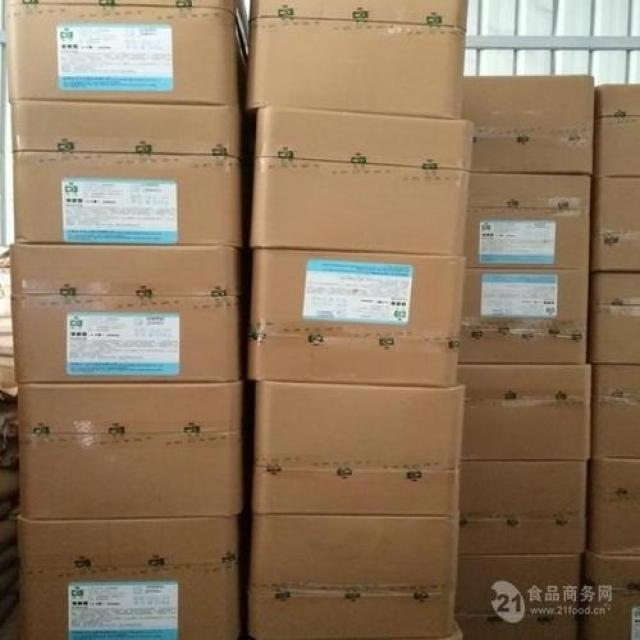box: (10, 102, 243, 247), (248, 111, 476, 256), (10, 243, 242, 384), (15, 380, 244, 520), (246, 249, 467, 386), (252, 384, 467, 517), (15, 518, 241, 640), (244, 0, 467, 120), (248, 516, 462, 639), (456, 365, 593, 462), (458, 268, 590, 366), (463, 76, 594, 174), (467, 171, 591, 270), (458, 460, 586, 553), (456, 554, 584, 640), (591, 456, 640, 554), (585, 553, 640, 640), (590, 177, 640, 272), (589, 275, 640, 364), (593, 364, 640, 459), (594, 83, 640, 180)
